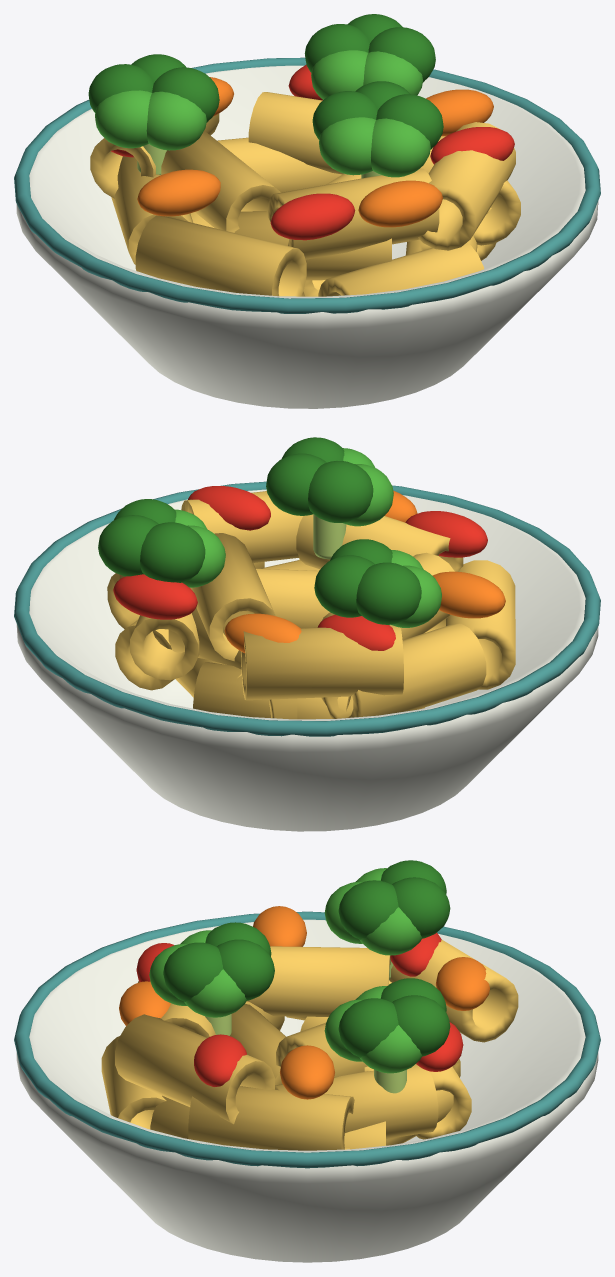
Rendered from pasta-primavera.glb.
3 renders of one model, top to bottom at view 1: azimuth 30°, elevation 25°; view 2: azimuth 150°, elevation 25°; view 3: azimuth 270°, elevation 25°, orthographic.
Parts seen in each view (by area): view 1: pasta-primavera_mesh; view 2: pasta-primavera_mesh; view 3: pasta-primavera_mesh.
Boxes of the visible parts, x1,y1,x2,y2 form: pasta-primavera_mesh: (14,14,600,408); pasta-primavera_mesh: (14,437,600,831); pasta-primavera_mesh: (14,860,600,1262).
Bounding box in the file's own units: 0.318 × 0.1655 × 0.318.
